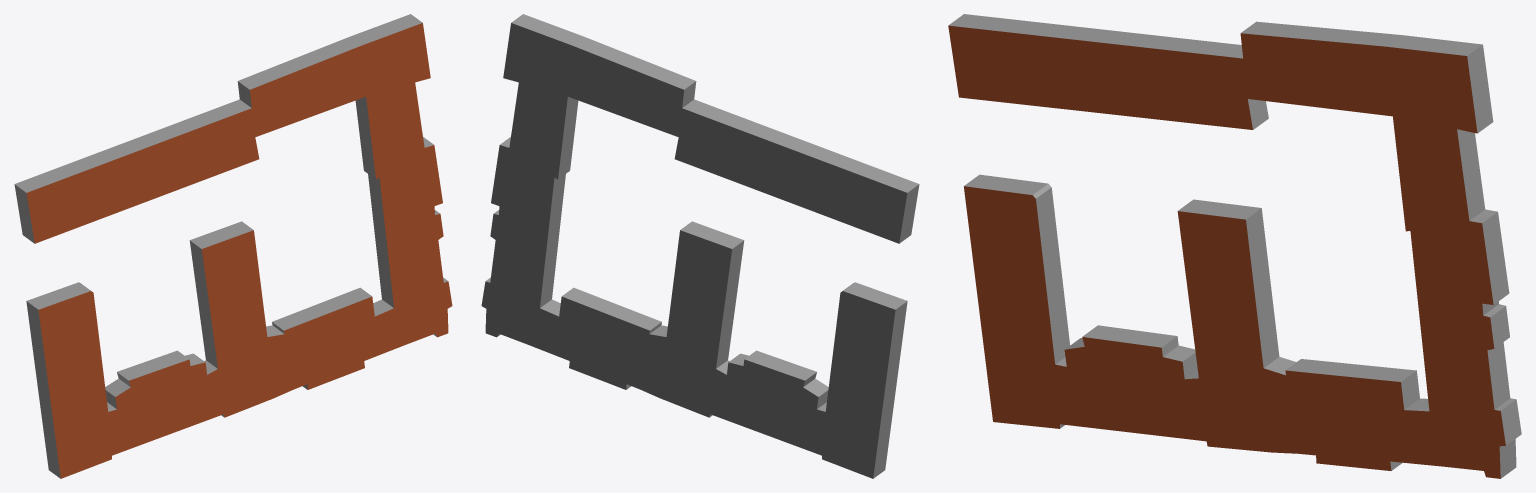
Rendered from construction_3985_assumed_A_Casa_h6m.obj.
3 views of the same model, side by side, from view 1: azimuth 30°, elevation 25°; view 2: azimuth 150°, elevation 25°; view 3: azimuth 330°, elevation 25° (orthographic). The views are drawn at different scales.
Parts seen in each view (by area): view 1: construction_3985_assumed_A_Casa; view 2: construction_3985_assumed_A_Casa; view 3: construction_3985_assumed_A_Casa.
Part boxes in pixels (x1,y1,x2,y2): construction_3985_assumed_A_Casa: [14, 14, 452, 478]; construction_3985_assumed_A_Casa: [481, 14, 919, 478]; construction_3985_assumed_A_Casa: [948, 14, 1521, 478].
Bounding box in the file's own units: 122 × 101 × 6.
